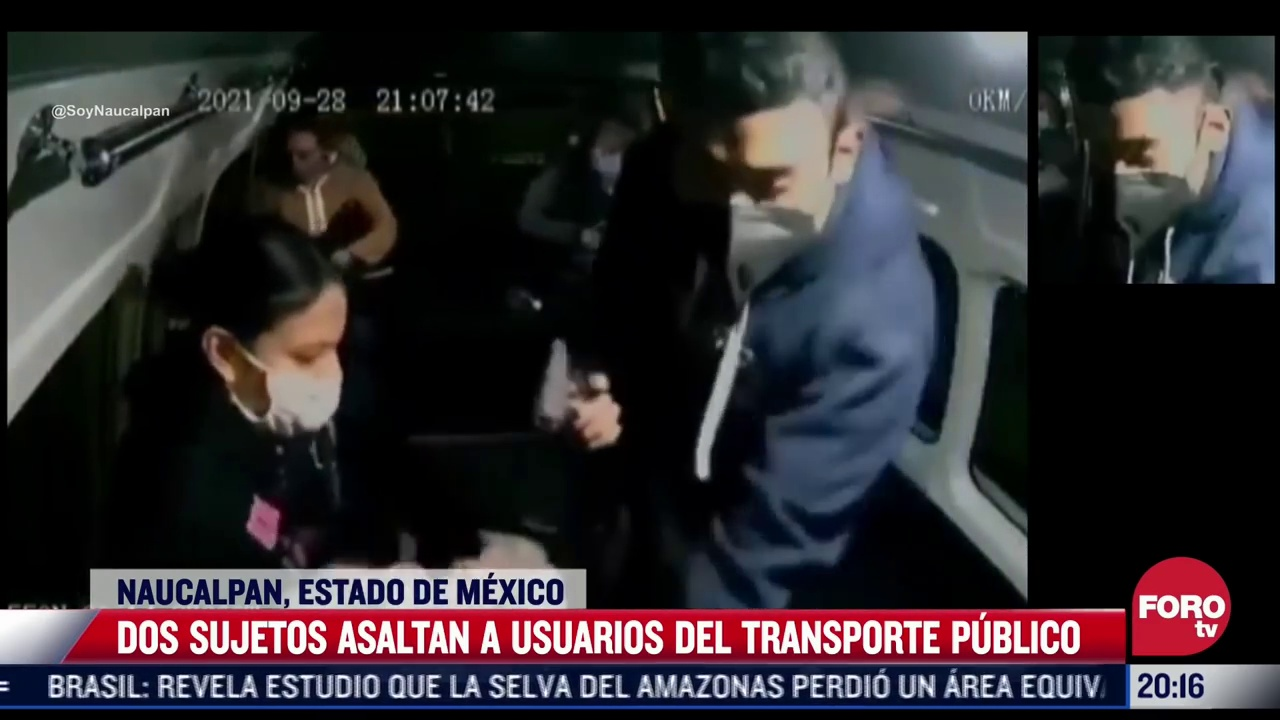pistol: (530, 337, 587, 434)
